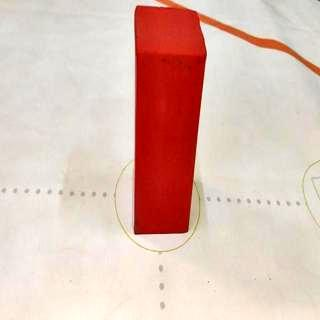redbox: (132, 4, 208, 233)
